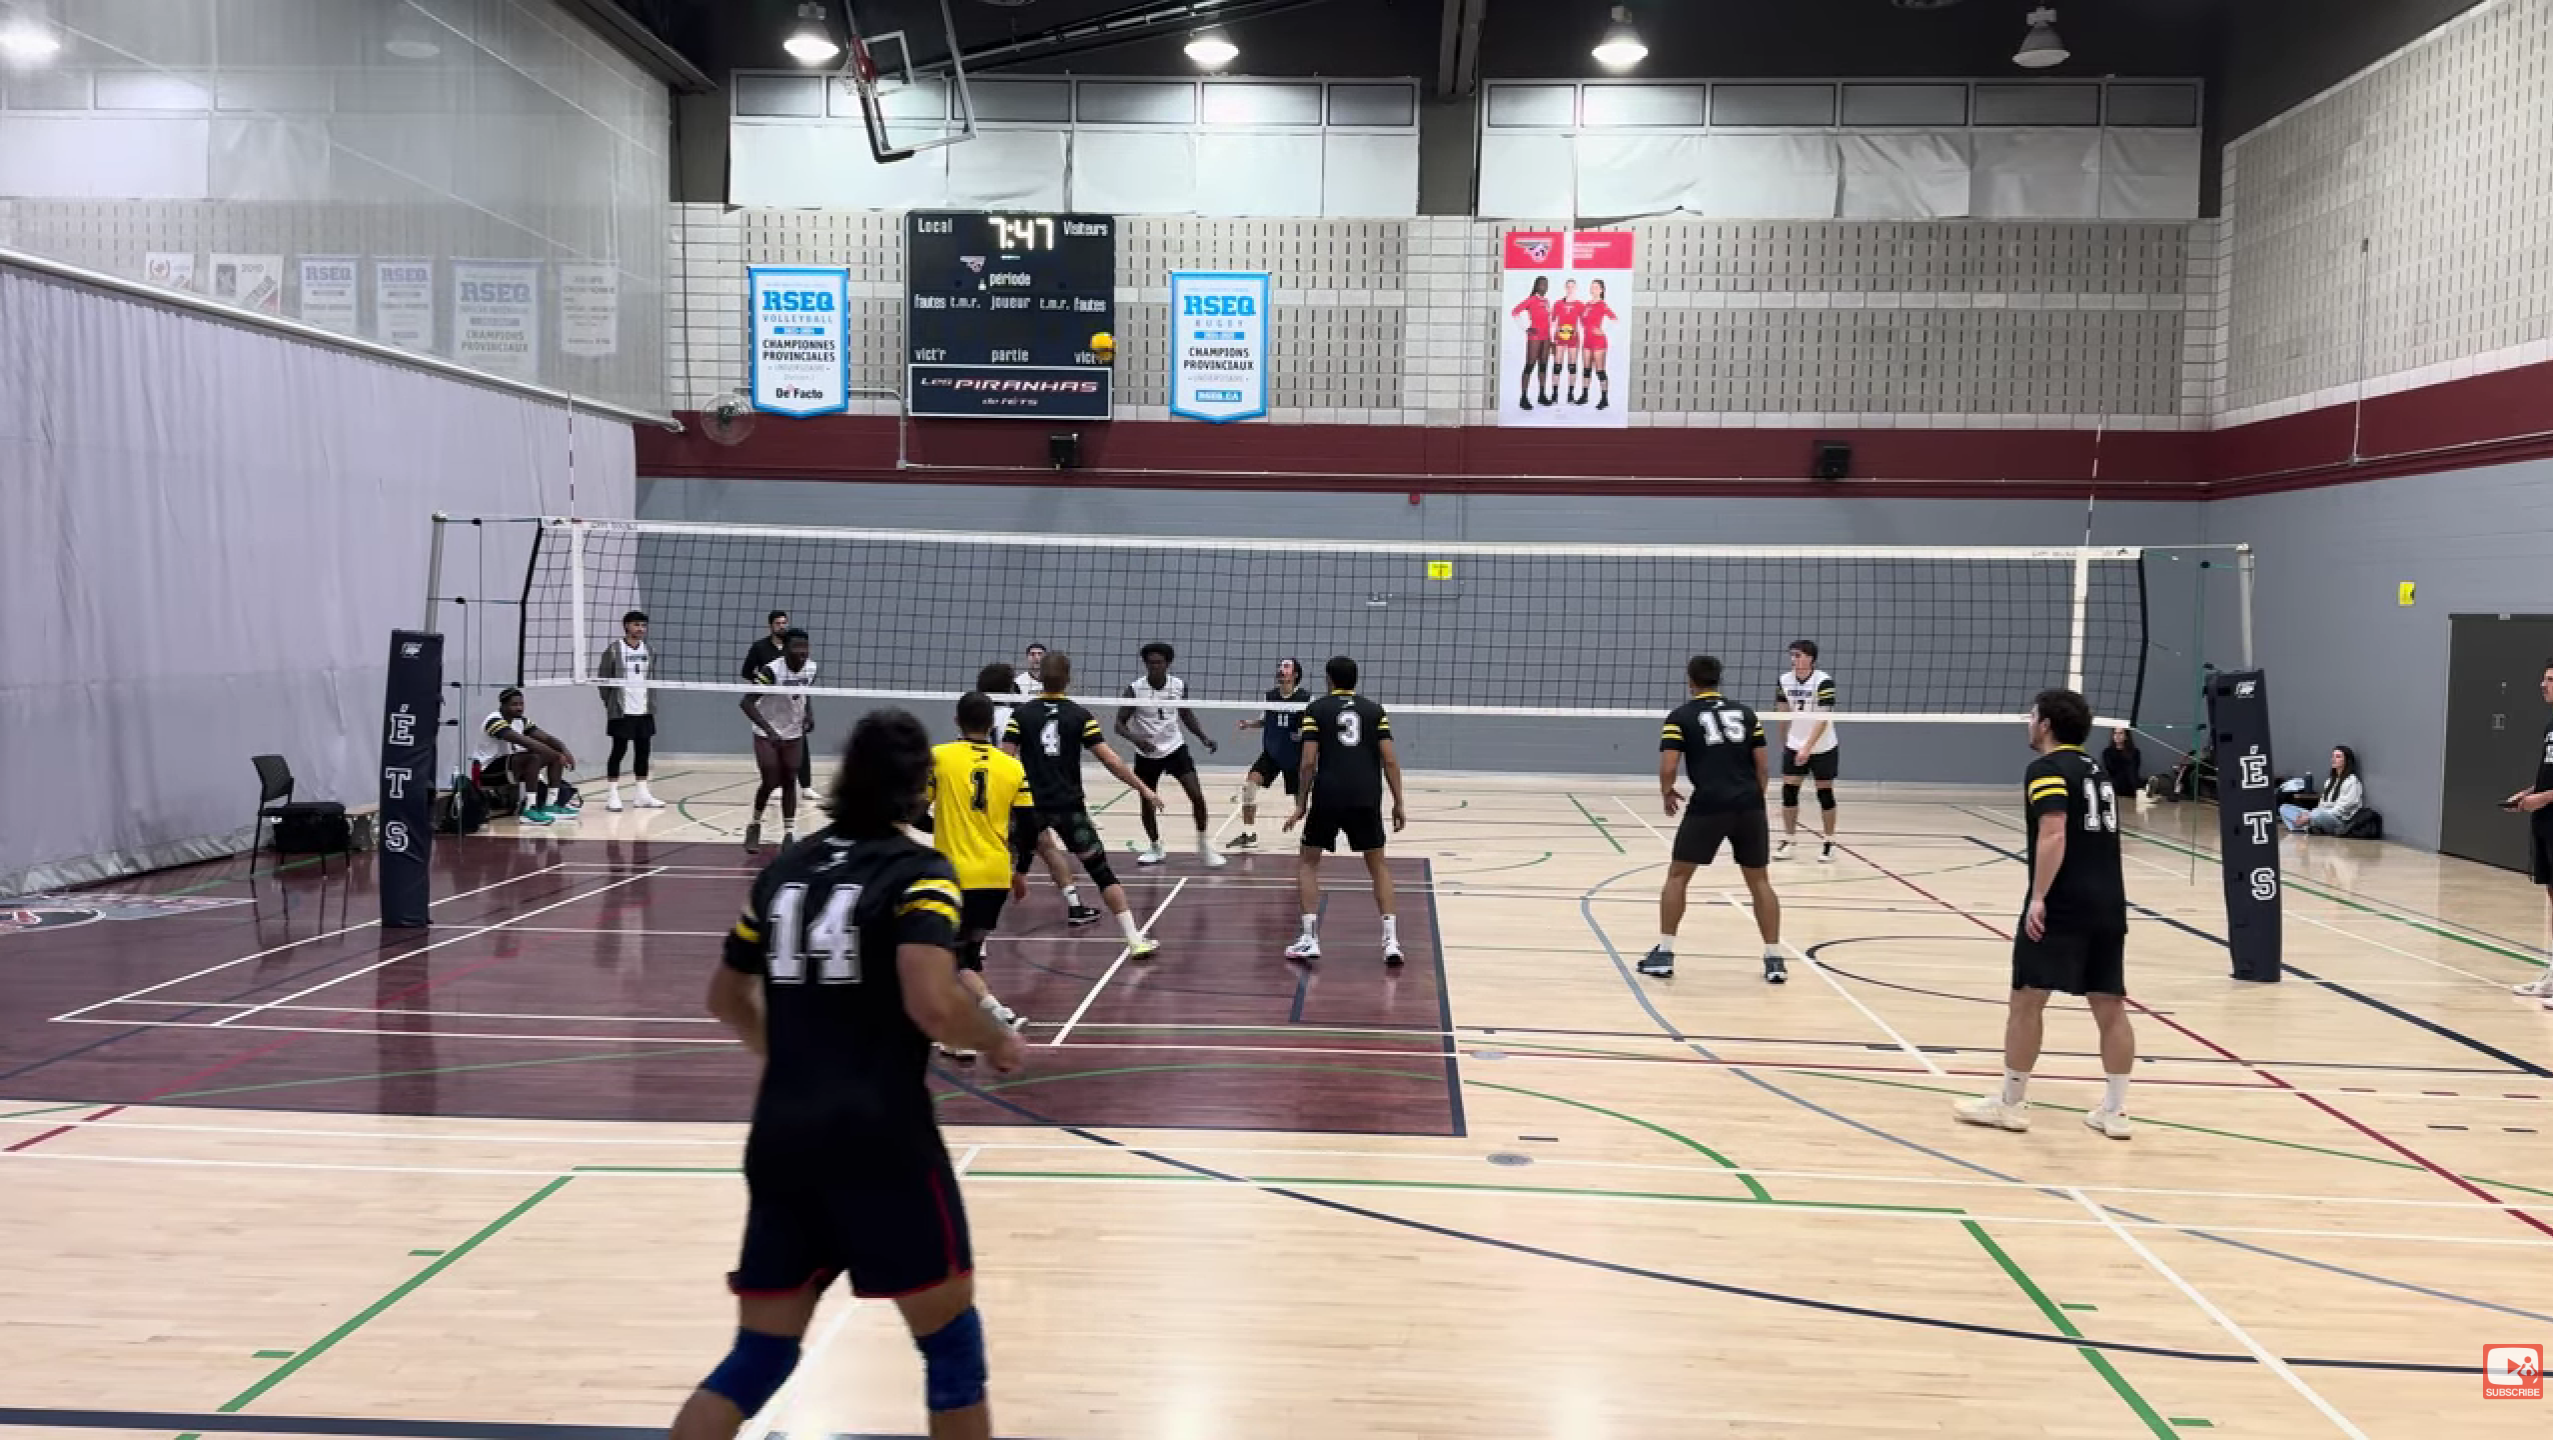Ball: (1089, 331, 1119, 361)
